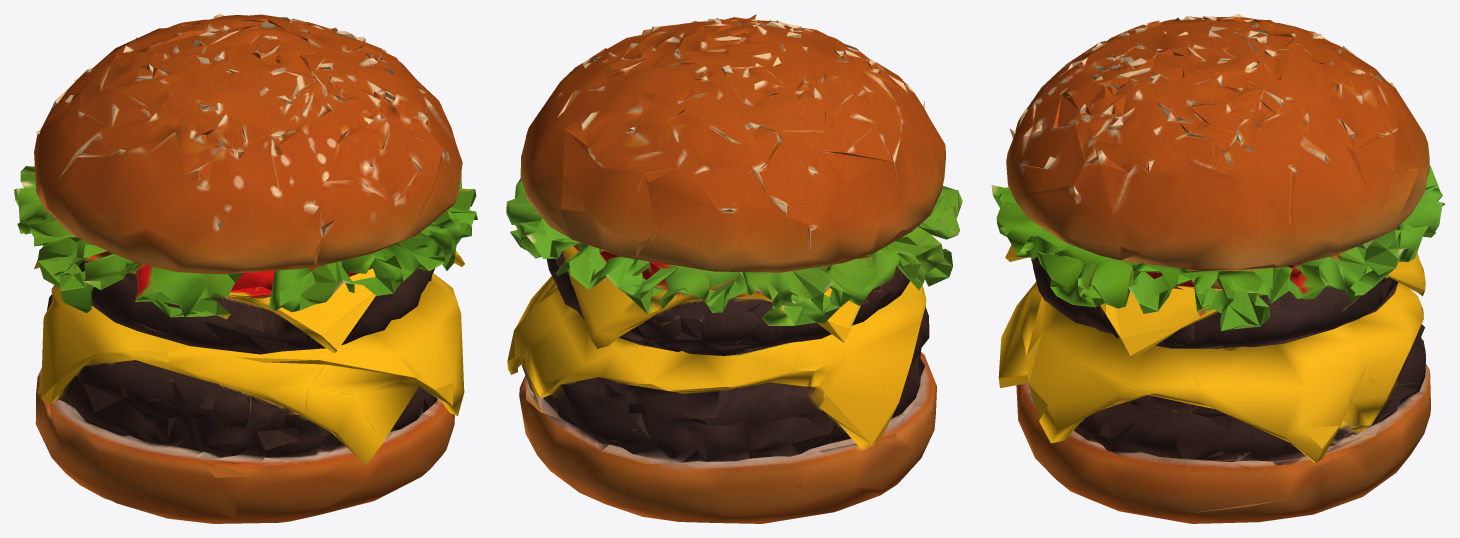
Rendered from addy_lunch_burger.obj.
The picture shows the model from 3 angles, left to right: view 1: azimuth 30°, elevation 25°; view 2: azimuth 150°, elevation 25°; view 3: azimuth 270°, elevation 25°; orthographic projection.
Parts seen in each view (by area): view 1: model; view 2: model; view 3: model.
Boxes of the visible parts, x1,y1,x2,y2 form: model: (14,14,477,523); model: (506,14,962,523); model: (991,14,1444,523).
Bounding box in the file's own units: 1.9 × 1.82 × 1.87.
